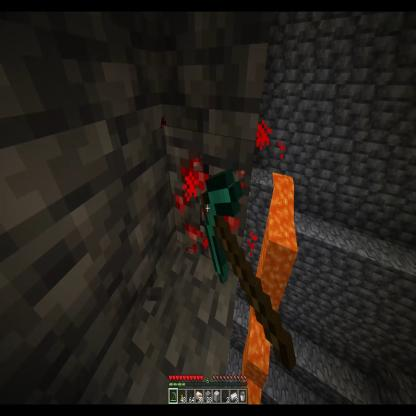redstone ore: (164, 126, 260, 262)
